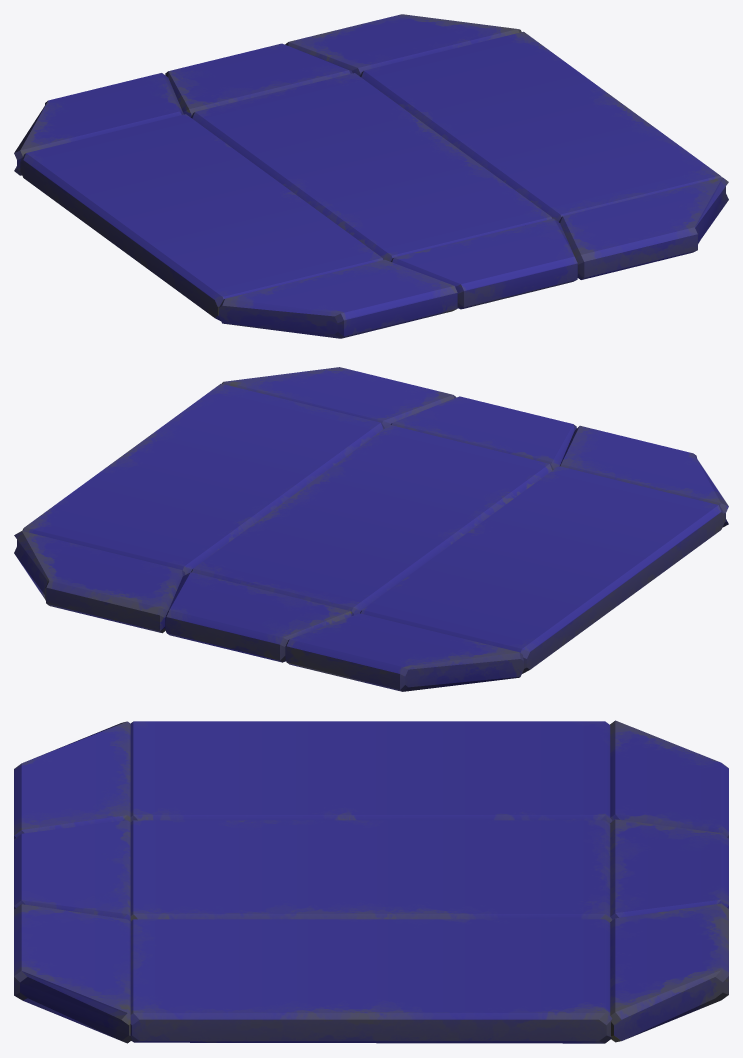
Rendered from SlugRoomCeiling.fbx.
The picture shows the model from 3 angles, top to bottom: view 1: azimuth 30°, elevation 25°; view 2: azimuth 150°, elevation 25°; view 3: azimuth 270°, elevation 25°; orthographic projection. The views are drawn at different scales.
Visible parts, largest first — view 1: Paneled_LongWall_Var3.006; view 2: Paneled_LongWall_Var3.006; view 3: Paneled_LongWall_Var3.006.
Part boxes in pixels (x1,y1,x2,y2): Paneled_LongWall_Var3.006: [14, 14, 728, 338]; Paneled_LongWall_Var3.006: [14, 367, 728, 691]; Paneled_LongWall_Var3.006: [14, 720, 728, 1043].
Size of the model in its own units: 3213 by 154 by 3270.
1 material, 1 textured.
